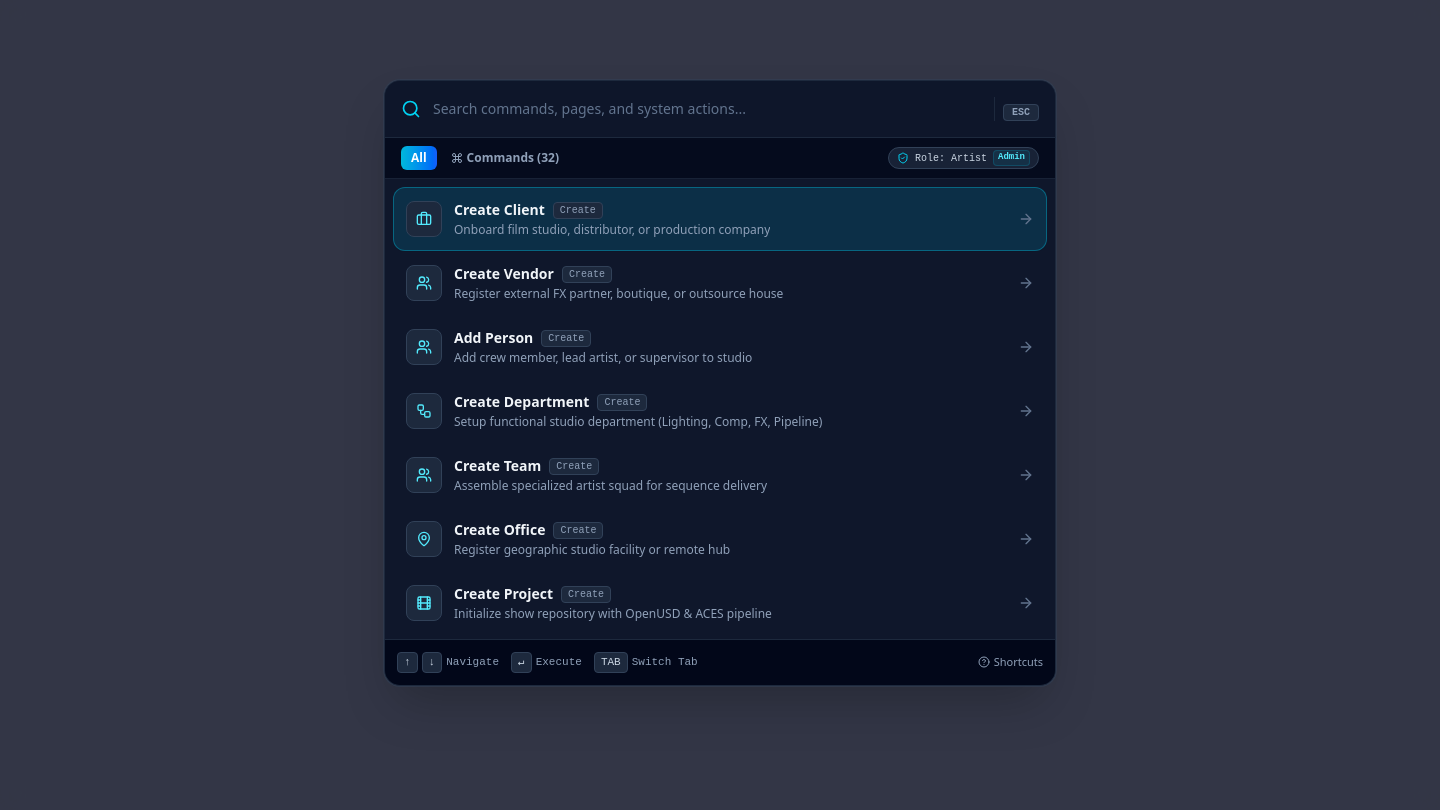
CommandPalette access scoping › shows admin-only entries to a superuser
Click the button "Commands (32)": (505, 158) 441,146 -> 569,170
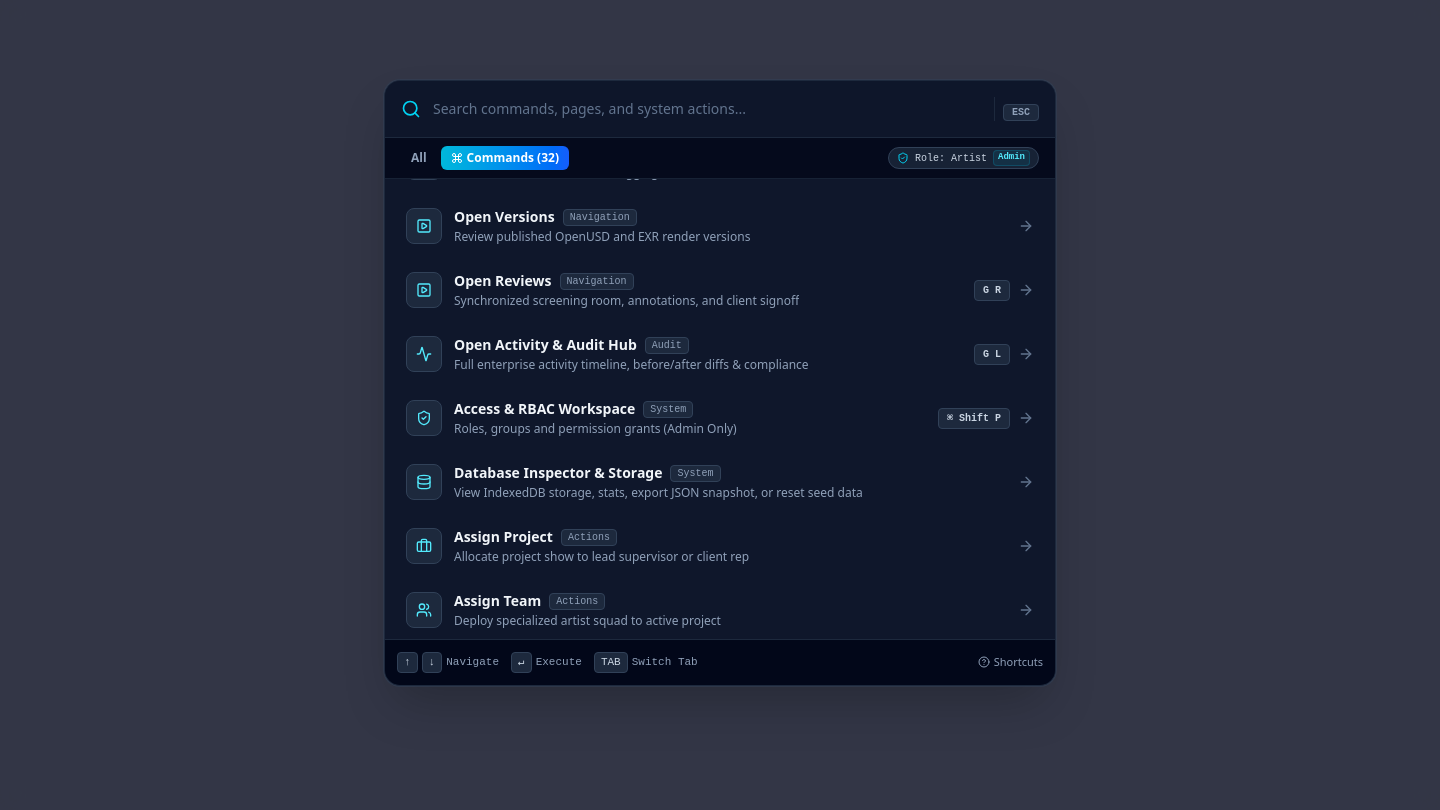
expect the text "Access & RBAC Workspace" is shown: met, box 454,399 -> 635,419
